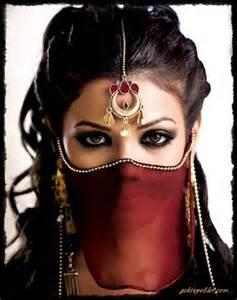OK: (72, 107, 198, 233)
